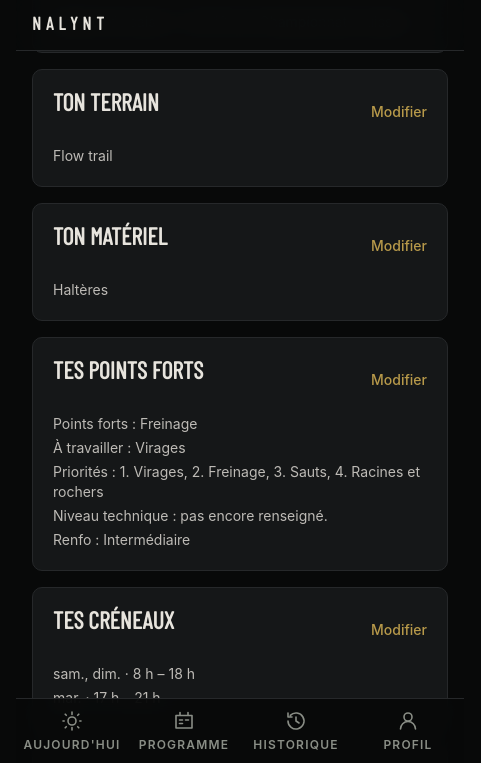
Test: Affiner ton profil — declared DH tier and ordered priorities (UX-11A.5a.2b) › a legacy profile with more than 3 priorities cannot be saved until one is removed
(page scrolled)
Click the button with aria-label "Modifier tes points forts": (399, 380) [371,358,427,402]
(page scrolled)
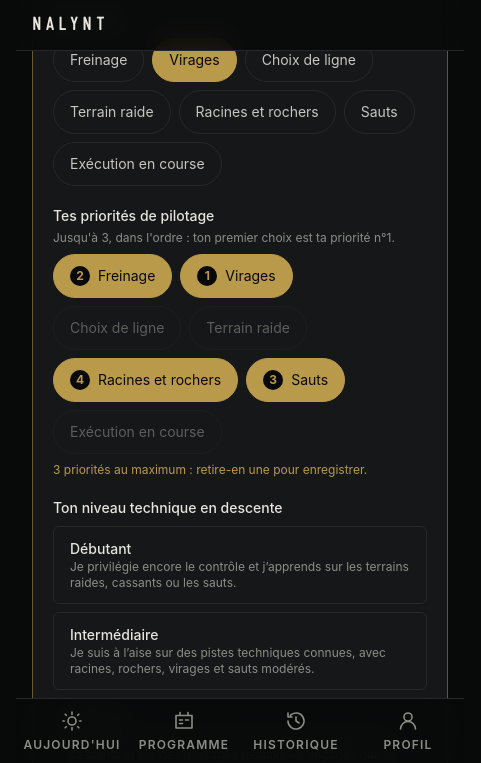
Check: the text "3 priorités au maximum : retire-en une pour enregistrer." is shown, box [53,462,367,477]
Click the button with aria-label "Racines et rochers, Priorité n°4": (146, 380) [53,358,238,402]
(page scrolled)
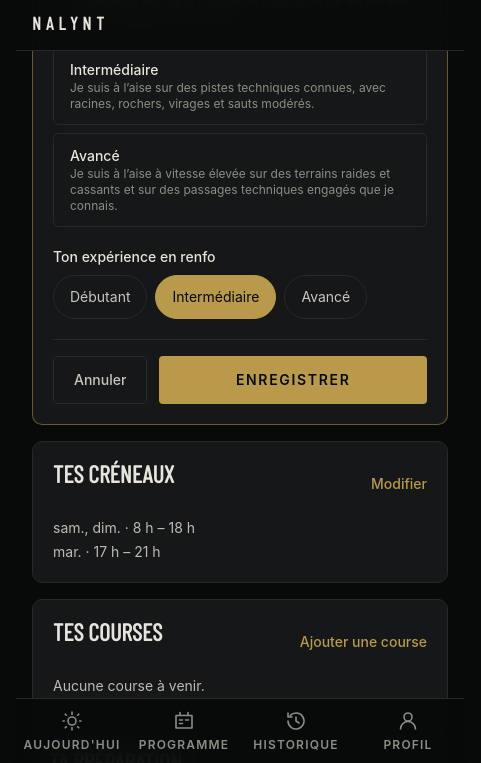
Check: the button "Enregistrer" is enabled, box [159,356,427,404]
